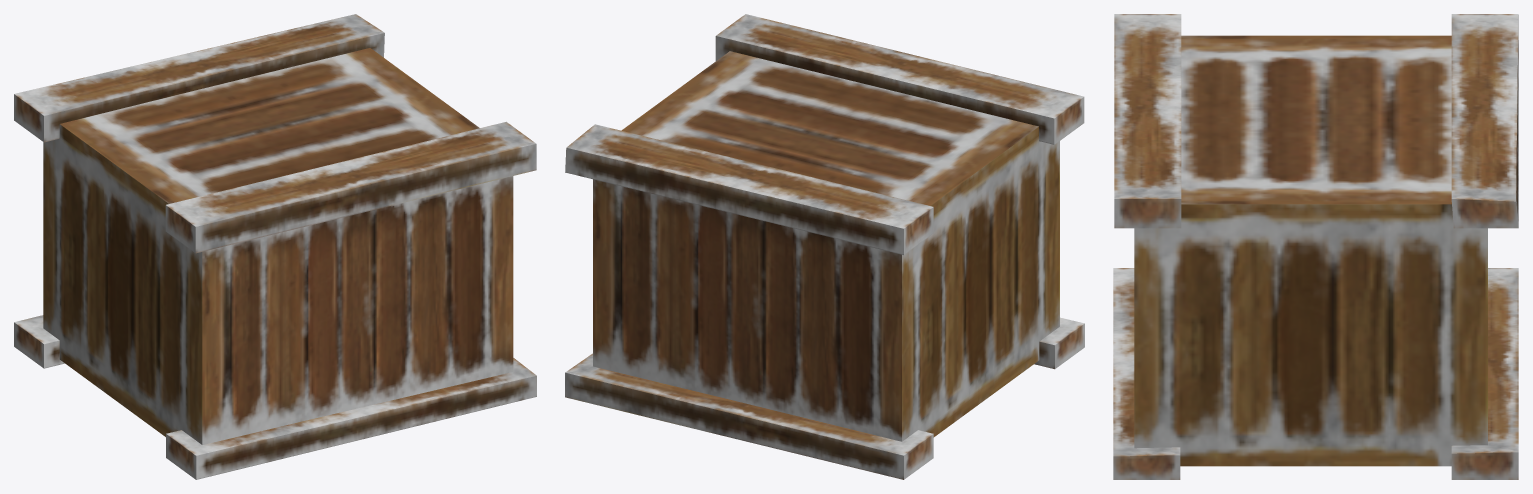
Rendered from SV_AFT_snow_muxiang_0.FBX.
The picture shows the model from 3 angles, left to right: view 1: azimuth 30°, elevation 25°; view 2: azimuth 150°, elevation 25°; view 3: azimuth 270°, elevation 25°; orthographic projection. The views are drawn at different scales.
Visible parts, largest first — view 1: SV_AFT_snow_muxiang_0; view 2: SV_AFT_snow_muxiang_0; view 3: SV_AFT_snow_muxiang_0.
Part boxes in pixels (box(x1,y1,x2,y2)): SV_AFT_snow_muxiang_0: box(14, 14, 536, 479); SV_AFT_snow_muxiang_0: box(565, 14, 1084, 479); SV_AFT_snow_muxiang_0: box(1113, 14, 1518, 479).
Bounding box in the file's own units: 1.01 × 0.7172 × 0.937.
